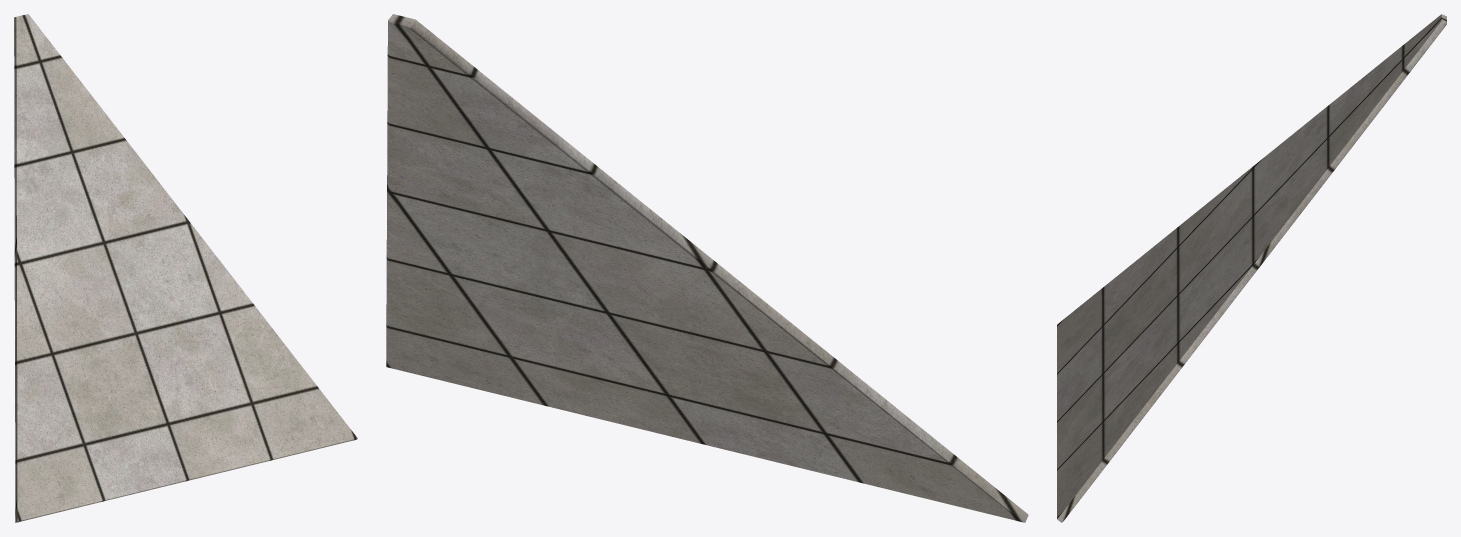
The model's file is wallpaper.roof.triangle.up.glb.
The picture shows the model from 3 angles, left to right: view 1: azimuth 30°, elevation 25°; view 2: azimuth 150°, elevation 25°; view 3: azimuth 270°, elevation 25°; orthographic projection. The views are drawn at different scales.
Parts seen in each view (by area): view 1: wallpaper.roof.triangle.up; view 2: wallpaper.roof.triangle.up; view 3: wallpaper.roof.triangle.up.
Part boxes in pixels (x1,y1,x2,y2): wallpaper.roof.triangle.up: (14, 14, 357, 522); wallpaper.roof.triangle.up: (386, 14, 1028, 522); wallpaper.roof.triangle.up: (1057, 14, 1446, 522).
Size of the model in its own units: 3.01 by 2.93 by 2.54.
1 material, 1 textured.
